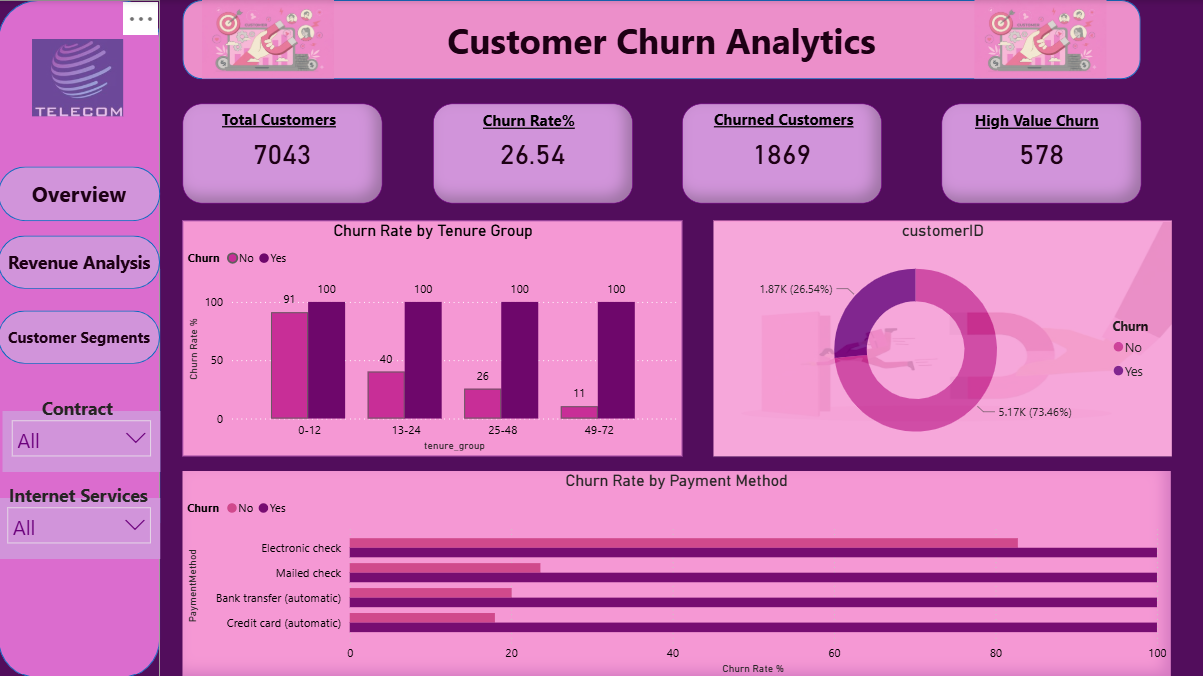

The dashboard page shown, as its layout file describes it:
{"tool":"powerbi","page":{"name":"Overview","canvas":[1280,720],"ordinal":2},"visuals":[{"type":"shape","box":[196,0,1016,84],"z":0},{"type":"shape","box":[0,0,172,720],"z":1000},{"type":"image","box":[34,42,102,82],"z":2000},{"type":"shape","box":[0,176,172,58],"z":3000},{"type":"card","fields":{"Values":["Measures (2).Churn Rate %"]},"box":[462,110,212,106],"z":4000},{"type":"card","fields":{"Values":["Measures (2).Total Customers"]},"box":[196,110,212,106],"z":5000},{"type":"card","fields":{"Values":["Measures (2).Churned Customers"]},"box":[726,110,212,106],"z":6000},{"type":"card","fields":{"Values":["Measures (2).High Value Churned"]},"box":[1000,110,212,106],"z":7000},{"type":"donutChart","title":"customerID ","fields":{"Category":["telcom churn.Churn"],"Y":["CountNonNull(telcom churn.customerID)"]},"box":[758,234,486,250],"z":8000},{"type":"clusteredBarChart","title":"Churn Rate by Payment Method","fields":{"Category":["telcom churn.PaymentMethod"],"Series":["telcom churn.Churn"],"Y":["Measures (2).Churn Rate %"]},"box":[196,500,1048,220],"z":9000},{"type":"clusteredColumnChart","title":"Churn Rate by Tenure Group","fields":{"Category":["telcom churn.tenure_group"],"Series":["telcom churn.Churn"],"Y":["Measures (2).Churn Rate %"]},"box":[196,234,530,250],"z":10000},{"type":"slicer","fields":{"Values":["telcom churn.Contract"]},"box":[4.2,435.7,167.6,64.9],"z":11000},{"type":"textbox","box":[41.9,414.8,96.4,41.9],"z":12000},{"type":"image","box":[216.7,0,139.7,83],"z":13000},{"type":"image","box":[1034.9,0,139.7,83],"z":14000},{"type":"slicer","fields":{"Values":["telcom churn.InternetService"]},"box":[0,527.9,171.8,64.9],"z":15000},{"type":"textbox","box":[6.3,507,165.5,41.9],"z":16000},{"type":"textbox","box":[232.9,109.4,137.7,40.5],"z":17000},{"type":"textbox","box":[508.4,111.4,117.5,50.6],"z":18000},{"type":"textbox","box":[745.3,109.4,174.2,50.6],"z":19000},{"type":"textbox","box":[1030.7,111,150.8,48.2],"z":20000},{"type":"shape","box":[0,249.3,171.8,56.6],"z":21000},{"type":"shape","box":[0,328.9,171.8,56.6],"z":22000},{"type":"image","box":[758.4,234.6,486,249.3],"z":23000}]}

Visuals, with their boxes on the page's 1280x720 design canvas (x1, y1, x2, y2). These are canvas units, not pixel positions in the 1203x676 screenshot, which may show the page scaled, cropped or inside an application window:
shape: (196, 0, 1212, 84)
shape: (0, 0, 172, 720)
image: (34, 42, 136, 124)
shape: (0, 176, 172, 234)
card - Measures (2).Churn Rate %: (462, 110, 674, 216)
card - Measures (2).Total Customers: (196, 110, 408, 216)
card - Measures (2).Churned Customers: (726, 110, 938, 216)
card - Measures (2).High Value Churned: (1000, 110, 1212, 216)
"customerID " donutChart: (758, 234, 1244, 484)
"Churn Rate by Payment Method" clusteredBarChart: (196, 500, 1244, 720)
"Churn Rate by Tenure Group" clusteredColumnChart: (196, 234, 726, 484)
slicer - telcom churn.Contract: (4, 436, 172, 501)
textbox: (42, 415, 138, 457)
image: (217, 0, 356, 83)
image: (1035, 0, 1175, 83)
slicer - telcom churn.InternetService: (0, 528, 172, 593)
textbox: (6, 507, 172, 549)
textbox: (233, 109, 371, 150)
textbox: (508, 111, 626, 162)
textbox: (745, 109, 920, 160)
textbox: (1031, 111, 1182, 159)
shape: (0, 249, 172, 306)
shape: (0, 329, 172, 386)
image: (758, 235, 1244, 484)
